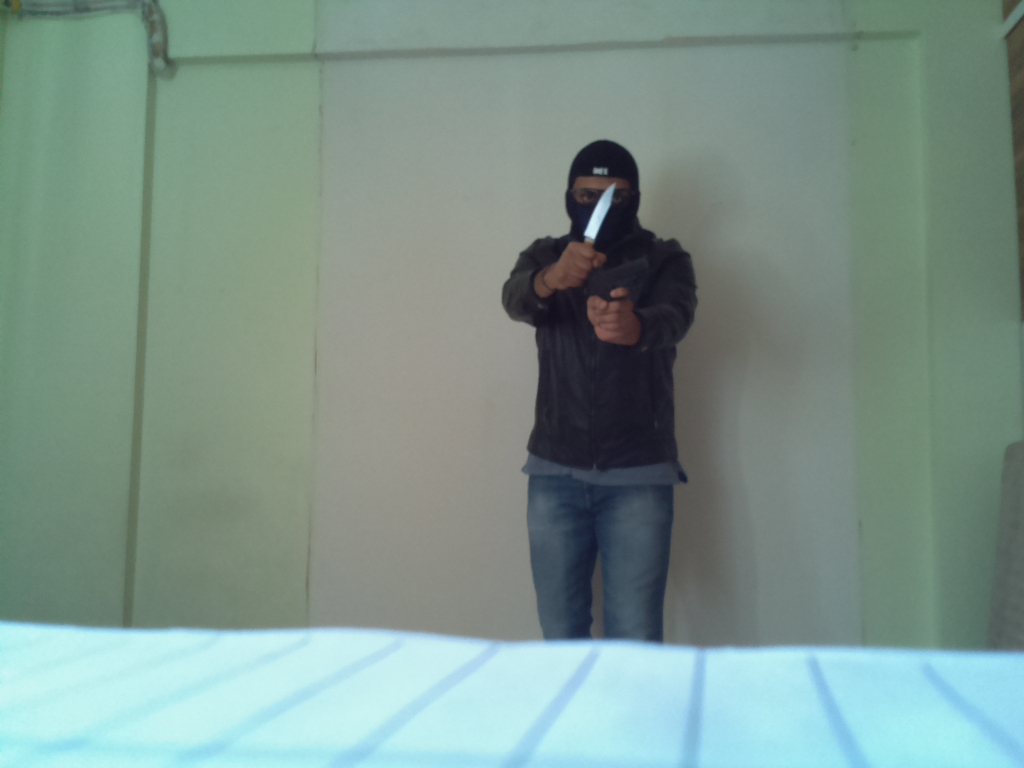knife: (573, 176, 624, 266)
